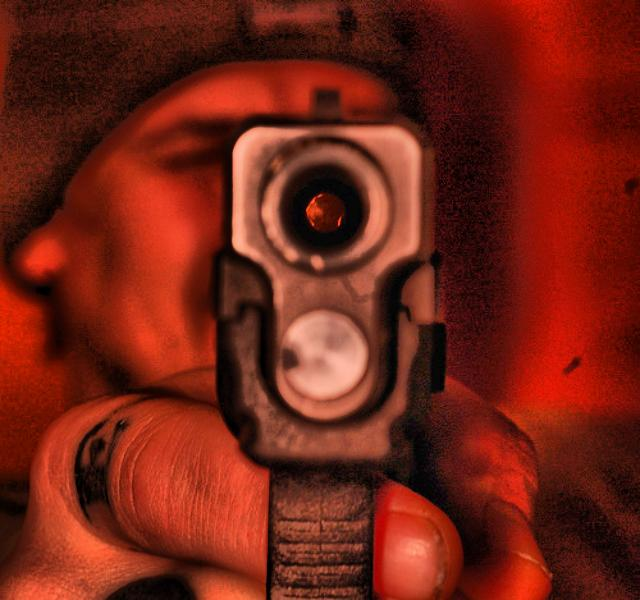pistol: (216, 75, 444, 589)
